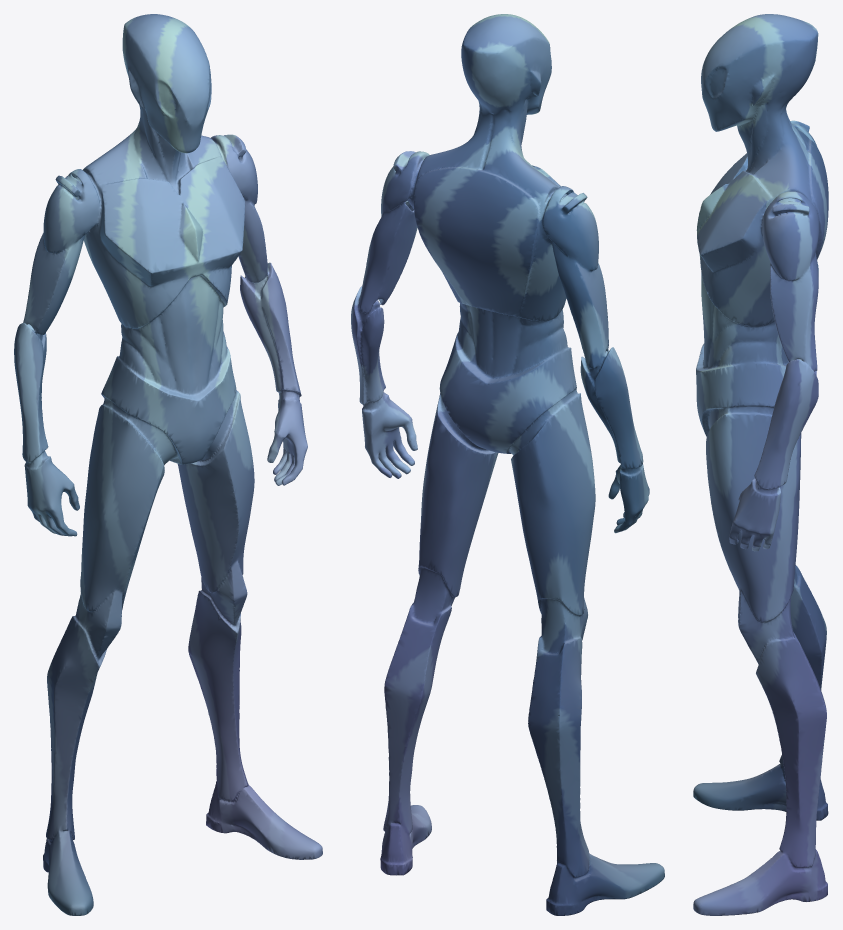
The model's file is player-level-00.glb.
The picture shows the model from 3 angles, left to right: view 1: azimuth 30°, elevation 25°; view 2: azimuth 150°, elevation 25°; view 3: azimuth 270°, elevation 25°; orthographic projection. The views are drawn at different scales.
Parts seen in each view (by area): view 1: world; view 2: world; view 3: world.
Boxes of the visible parts, x1,y1,x2,y2 form: world: [14, 14, 322, 915]; world: [351, 14, 664, 915]; world: [693, 14, 828, 915].
Bounding box in the file's own units: 0.6465 × 1.9 × 0.2782.
